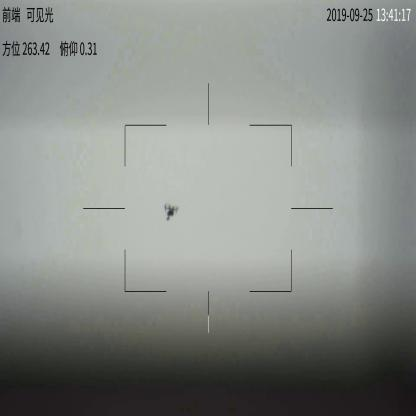uav: (163, 202, 181, 224)
